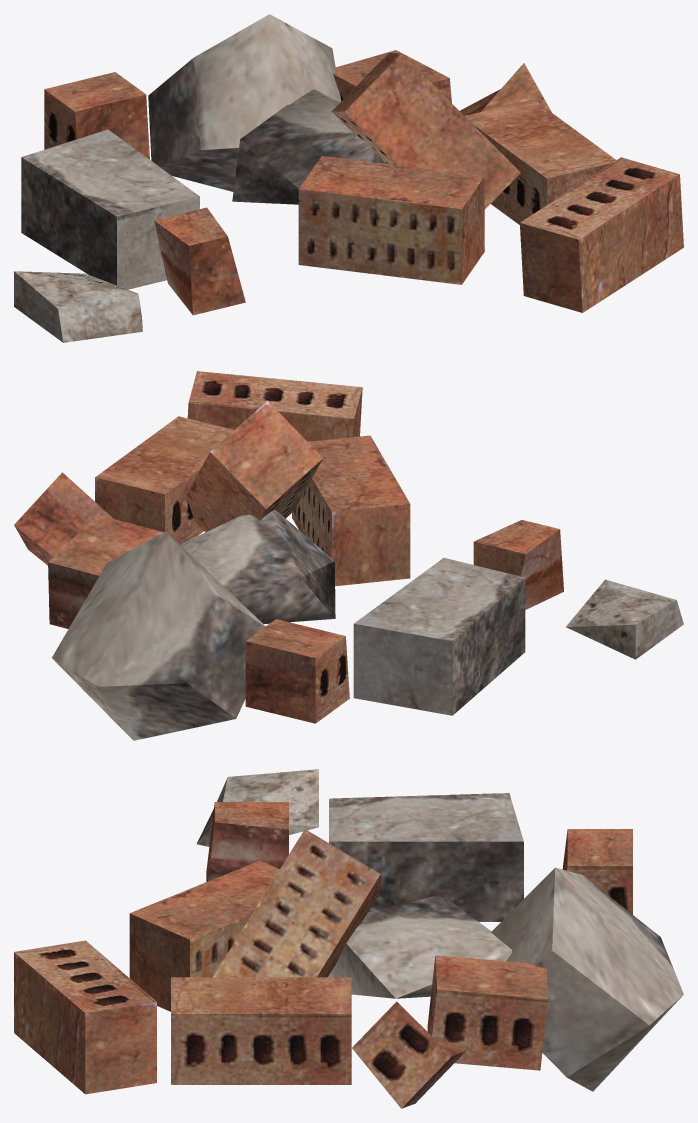
The model's file is Debris2_5_LOD1.fbx.
3 views of the same model, one above another, from view 1: azimuth 30°, elevation 25°; view 2: azimuth 150°, elevation 25°; view 3: azimuth 270°, elevation 25° (orthographic). The views are drawn at different scales.
Visible parts, largest first — view 1: polySurface311; view 2: polySurface311; view 3: polySurface311.
Boxes of the visible parts, x1,y1,x2,y2 form: polySurface311: (14,14,683,342); polySurface311: (14,371,683,740); polySurface311: (14,769,683,1108).
Bounding box in the file's own units: 1.44 × 0.5866 × 1.36.
